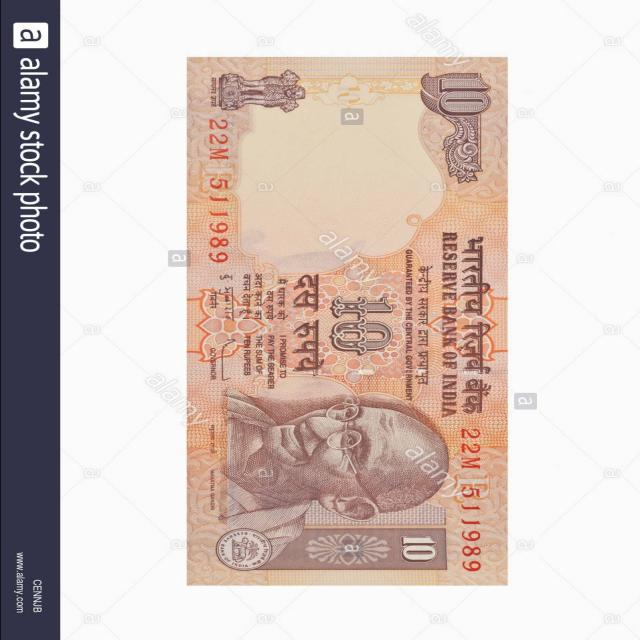10IndianRupees: (190, 57, 506, 586)
